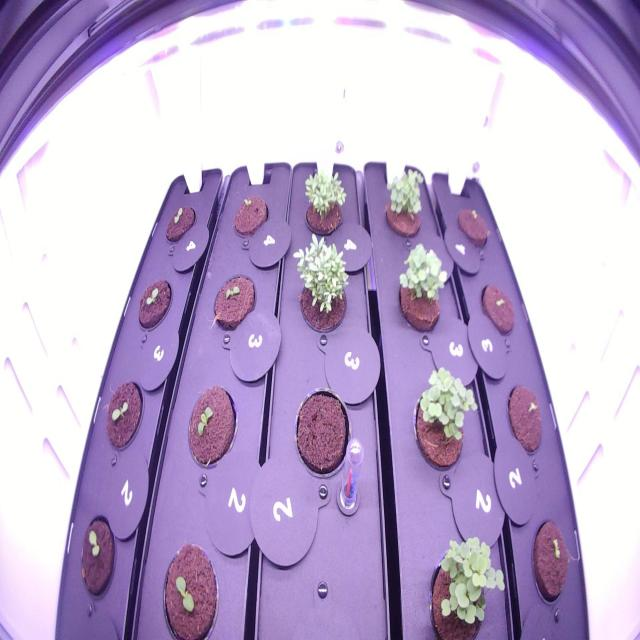germination: (424, 512, 511, 638), (408, 360, 480, 480), (289, 229, 351, 342), (156, 535, 223, 639), (392, 238, 452, 338), (181, 380, 242, 472), (528, 511, 574, 615), (73, 511, 121, 606), (294, 165, 351, 242), (378, 162, 428, 245), (101, 374, 148, 459), (502, 376, 546, 462), (208, 268, 260, 339), (475, 272, 521, 350), (132, 274, 175, 337), (228, 186, 272, 245), (450, 197, 492, 258), (161, 198, 199, 255)
pod: (286, 381, 358, 485)
